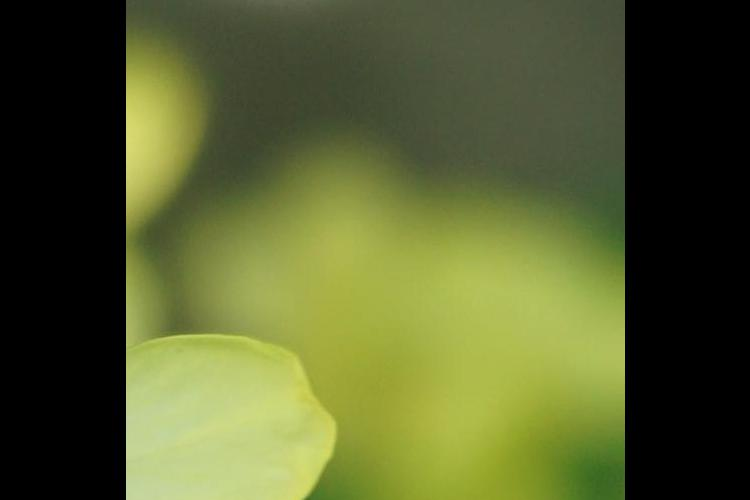yellow: (127, 320, 335, 500)
